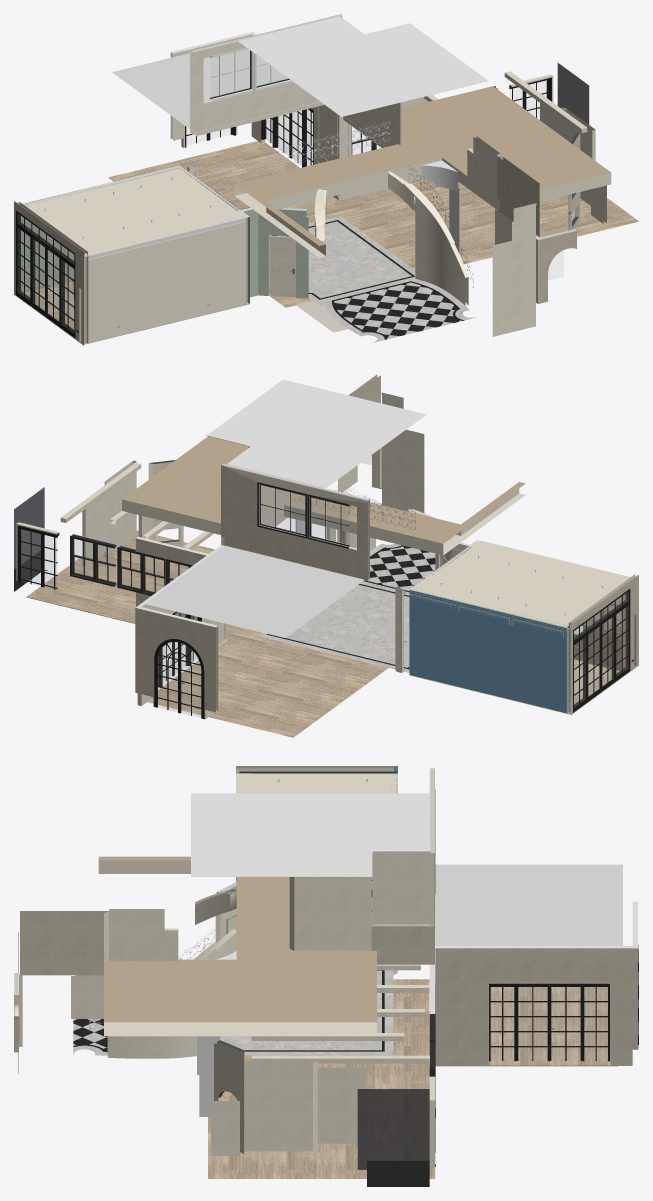
File: dining-room-3cd45c2ad251.glb
3 renders of one model, top to bottom at view 1: azimuth 30°, elevation 25°; view 2: azimuth 150°, elevation 25°; view 3: azimuth 270°, elevation 25°, orthographic. The views are drawn at different scales.
Parts seen in each view (by area): view 1: dining-room-look-2575515a05775d9e, dining-room-look-9d91b47435c6fb33, dining-room-look-3b0077416469e01b, dining-room-d999b7e09afcf2f4, dining-room-2575515a05775d9e, dining-room-look-4a969f5cc1ae3dfe, dining-room-look-245f595ae2832e16, dining-room-look-e388ad8855329420, dining-room-look-6ea1225136f14ed6, dining-room-look-d5a4a1b5d3594c04, dining-room-look-8c6a7019fd0063e7, dining-room-701dbbc71a4c8bc6 (+40 smaller); view 2: dining-room-look-3b0077416469e01b, dining-room-b19b106fc304963c, dining-room-look-9d91b47435c6fb33, dining-room-look-2575515a05775d9e, dining-room-look-4a969f5cc1ae3dfe, dining-room-2575515a05775d9e, dining-room-look-245f595ae2832e16, dining-room-look-6ea1225136f14ed6, dining-room-look-969b861f9850351e, dining-room-look-d5a4a1b5d3594c04, dining-room-look-cdd3b97a7e9637be, dining-room-look-e388ad8855329420 (+27 smaller); view 3: dining-room-look-2575515a05775d9e, dining-room-look-3b0077416469e01b, dining-room-look-9d91b47435c6fb33, dining-room-look-4a969f5cc1ae3dfe, dining-room-look-e706aa16b4547c37, dining-room-look-5b6bbac285e58726, dining-room-look-69af8f587252f9fa, dining-room-look-62353aa10fc57f23, dining-room-look-cbd4bf73d9724a66, dining-room-look-32b959c9aa406288, dining-room-look-99336d62df756830, dining-room-2575515a05775d9e (+22 smaller).
Part boxes in pixels (<box>): dining-room-look-2575515a05775d9e: <box>234,86,611,257</box>; dining-room-look-9d91b47435c6fb33: <box>238,16,487,116</box>; dining-room-look-3b0077416469e01b: <box>108,141,638,307</box>; dining-room-d999b7e09afcf2f4: <box>88,216,246,342</box>; dining-room-2575515a05775d9e: <box>15,166,248,256</box>; dining-room-look-4a969f5cc1ae3dfe: <box>112,49,288,129</box>; dining-room-look-245f595ae2832e16: <box>190,14,342,134</box>; dining-room-look-e388ad8855329420: <box>334,282,461,339</box>; dining-room-look-6ea1225136f14ed6: <box>269,221,411,298</box>; dining-room-look-d5a4a1b5d3594c04: <box>492,235,535,336</box>; dining-room-look-8c6a7019fd0063e7: <box>388,171,468,305</box>; dining-room-701dbbc71a4c8bc6: <box>16,210,75,337</box>; dining-room-look-3b0077416469e01b: <box>26,530,387,737</box>; dining-room-b19b106fc304963c: <box>409,590,567,713</box>; dining-room-look-9d91b47435c6fb33: <box>206,379,425,488</box>; dining-room-look-2575515a05775d9e: <box>122,436,525,555</box>; dining-room-look-4a969f5cc1ae3dfe: <box>146,545,364,637</box>; dining-room-2575515a05775d9e: <box>410,541,637,628</box>; dining-room-look-245f595ae2832e16: <box>221,464,369,580</box>; dining-room-look-6ea1225136f14ed6: <box>286,584,409,667</box>; dining-room-look-969b861f9850351e: <box>135,606,218,712</box>; dining-room-look-d5a4a1b5d3594c04: <box>382,429,424,512</box>; dining-room-look-cdd3b97a7e9637be: <box>257,482,307,538</box>; dining-room-look-e388ad8855329420: <box>368,546,435,590</box>; dining-room-look-2575515a05775d9e: <box>98,856,376,1036</box>; dining-room-look-3b0077416469e01b: <box>208,979,617,1178</box>; dining-room-look-9d91b47435c6fb33: <box>191,793,429,876</box>; dining-room-look-4a969f5cc1ae3dfe: <box>435,864,622,945</box>; dining-room-look-e706aa16b4547c37: <box>435,946,632,1065</box>; dining-room-look-5b6bbac285e58726: <box>245,1061,317,1151</box>; dining-room-look-69af8f587252f9fa: <box>289,877,371,950</box>; dining-room-look-62353aa10fc57f23: <box>20,911,108,975</box>; dining-room-look-cbd4bf73d9724a66: <box>357,1089,429,1169</box>; dining-room-look-32b959c9aa406288: <box>372,851,429,924</box>; dining-room-look-99336d62df756830: <box>317,1068,365,1143</box>; dining-room-2575515a05775d9e: <box>236,766,397,793</box>.
Bounding box in the file's own units: 20 × 6.36 × 16.79.
Materials: 52 (16 with a texture image).
